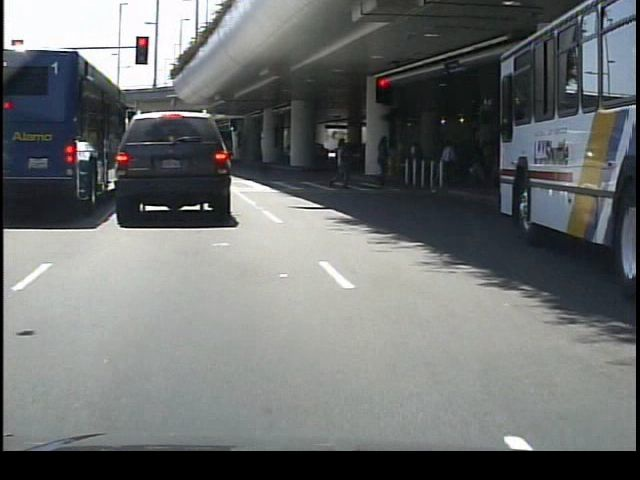person: (329, 132, 354, 190), (371, 134, 397, 189), (437, 138, 461, 194)
